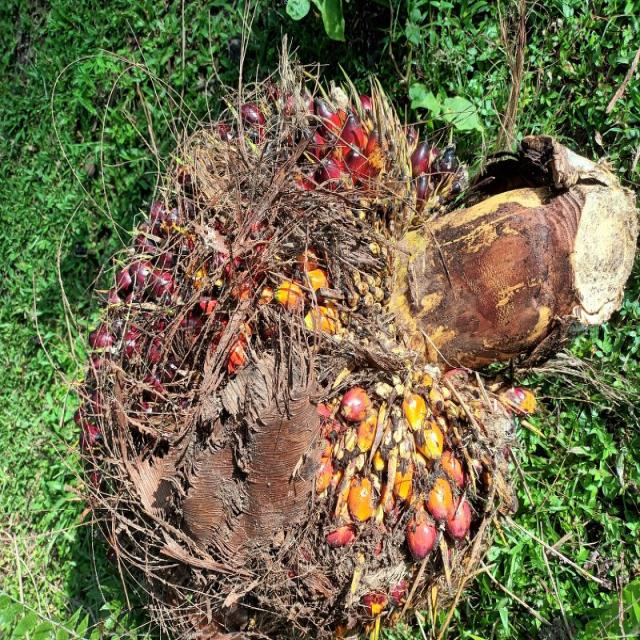fraksi 1: (4, 81, 446, 640)
